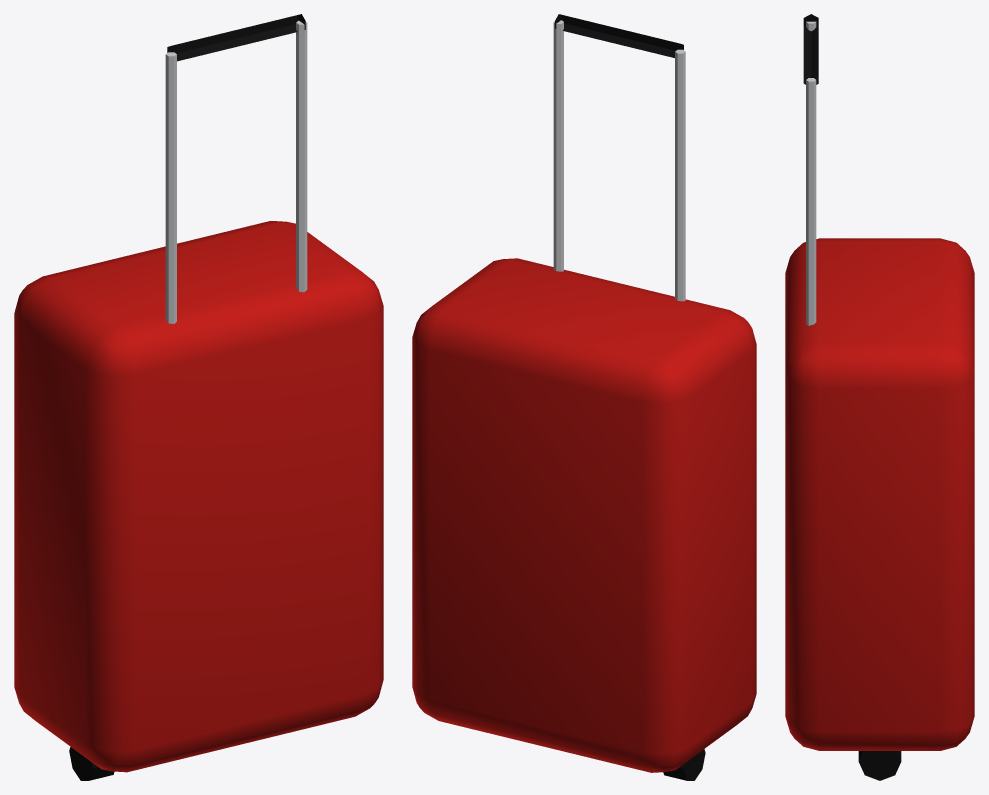
File: airport.bags.suitcase_cabin.glb
3 renders of one model, left to right at view 1: azimuth 30°, elevation 25°; view 2: azimuth 150°, elevation 25°; view 3: azimuth 270°, elevation 25°, orthographic. The views are drawn at different scales.
Parts seen in each view (by area): view 1: main__plastic_red, main__aluminium, main__plastic_black, main__rubber; view 2: main__plastic_red, main__aluminium, main__plastic_black, main__rubber; view 3: main__plastic_red, main__aluminium, main__rubber, main__plastic_black.
Boxes of the visible parts, <box> form: main__plastic_red: <box>14,221,383,772</box>; main__aluminium: <box>165,20,307,323</box>; main__plastic_black: <box>167,14,305,61</box>; main__rubber: <box>69,747,114,780</box>; main__plastic_red: <box>412,258,756,772</box>; main__aluminium: <box>553,20,685,301</box>; main__plastic_black: <box>555,14,683,57</box>; main__rubber: <box>663,749,705,780</box>; main__plastic_red: <box>785,238,974,750</box>; main__aluminium: <box>806,21,816,325</box>; main__rubber: <box>858,751,901,780</box>; main__plastic_black: <box>803,14,818,84</box>.
Size of the model in its own units: 0.36 by 0.88 by 0.22.
